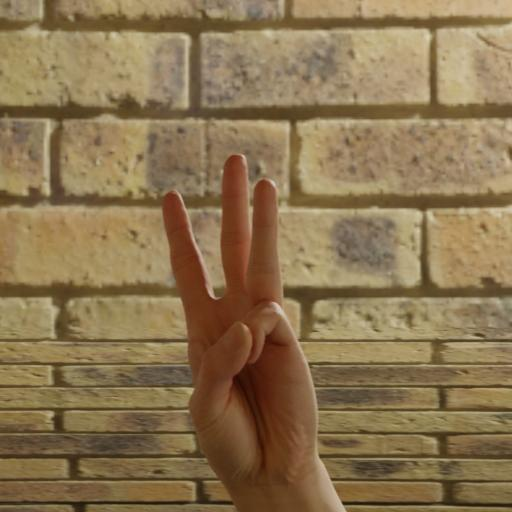W: (147, 146, 336, 512)
